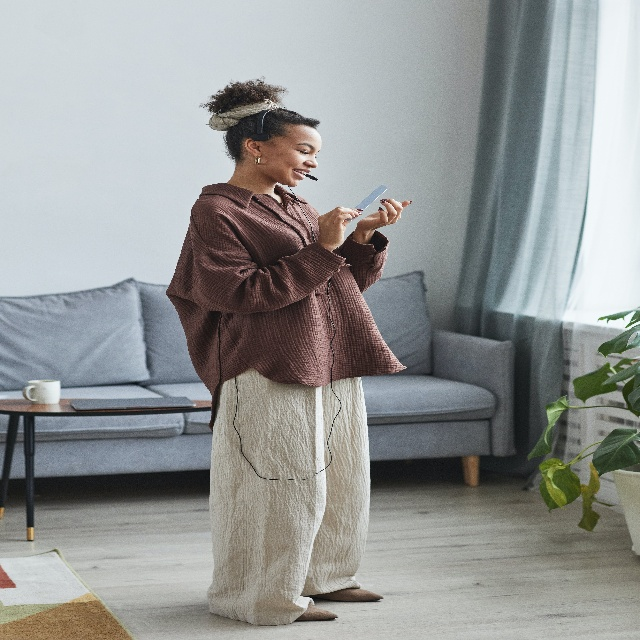Sin_guantes: (317, 205, 363, 251), (356, 198, 413, 232)
